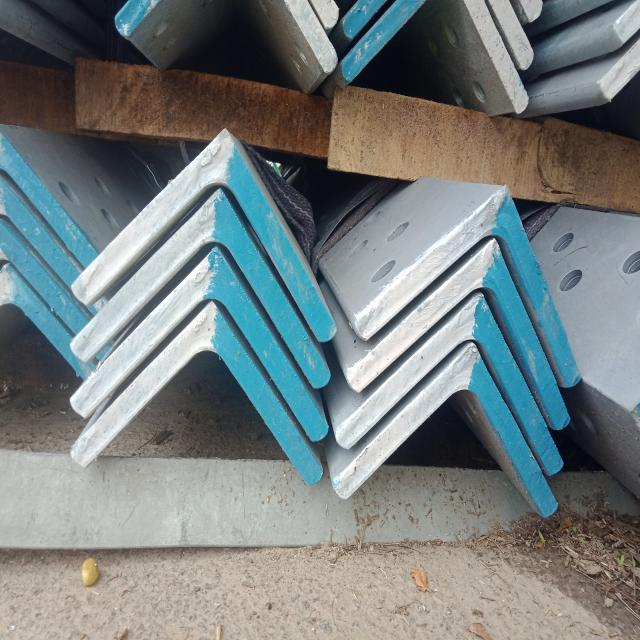metal-angles: (70, 125, 338, 344), (69, 186, 331, 389), (70, 245, 329, 441), (354, 182, 582, 387), (70, 301, 323, 485), (344, 238, 571, 430), (334, 291, 564, 473), (333, 342, 559, 517)
